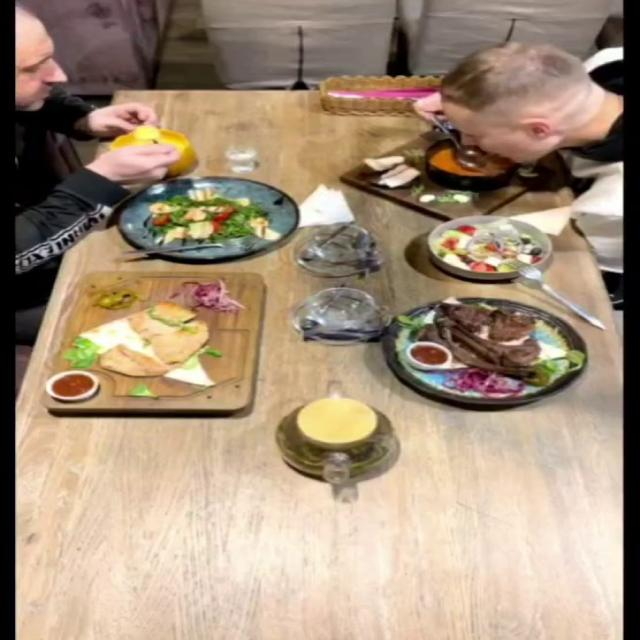alcohol: (204, 128, 305, 171)
meat: (379, 296, 589, 405)
salat: (114, 176, 297, 260), (426, 214, 554, 279)
soup: (338, 134, 568, 222), (110, 125, 200, 177)
tea: (273, 396, 397, 480)
